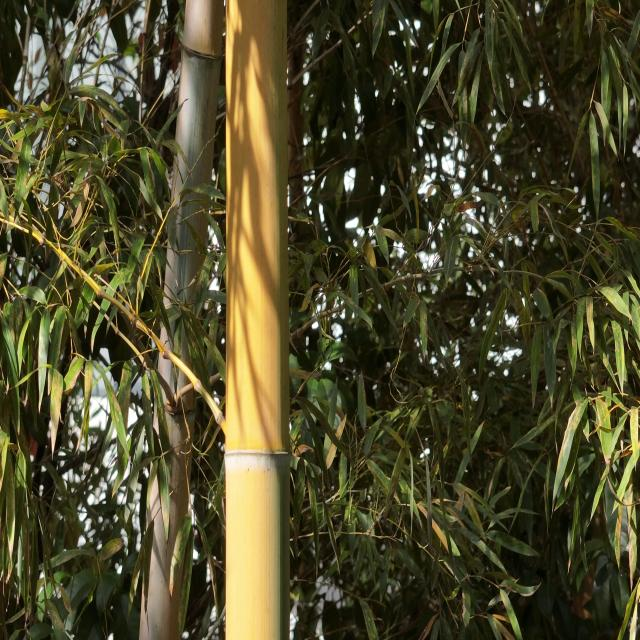Bamboo-shoots: (227, 0, 290, 640)
